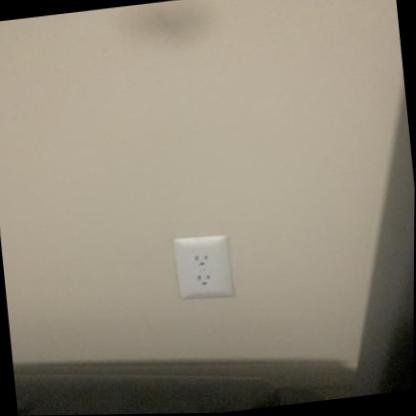OUTLET: (170, 231, 236, 300)
